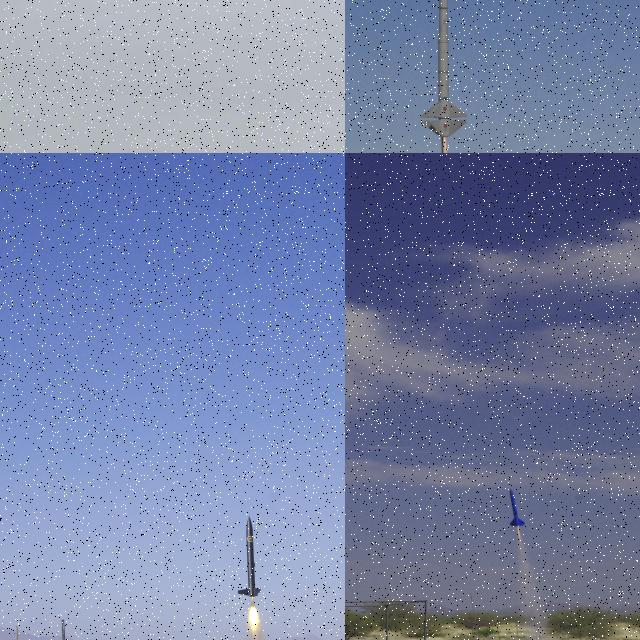Rocket: (419, 0, 468, 138), (237, 516, 262, 598), (509, 488, 526, 528)
